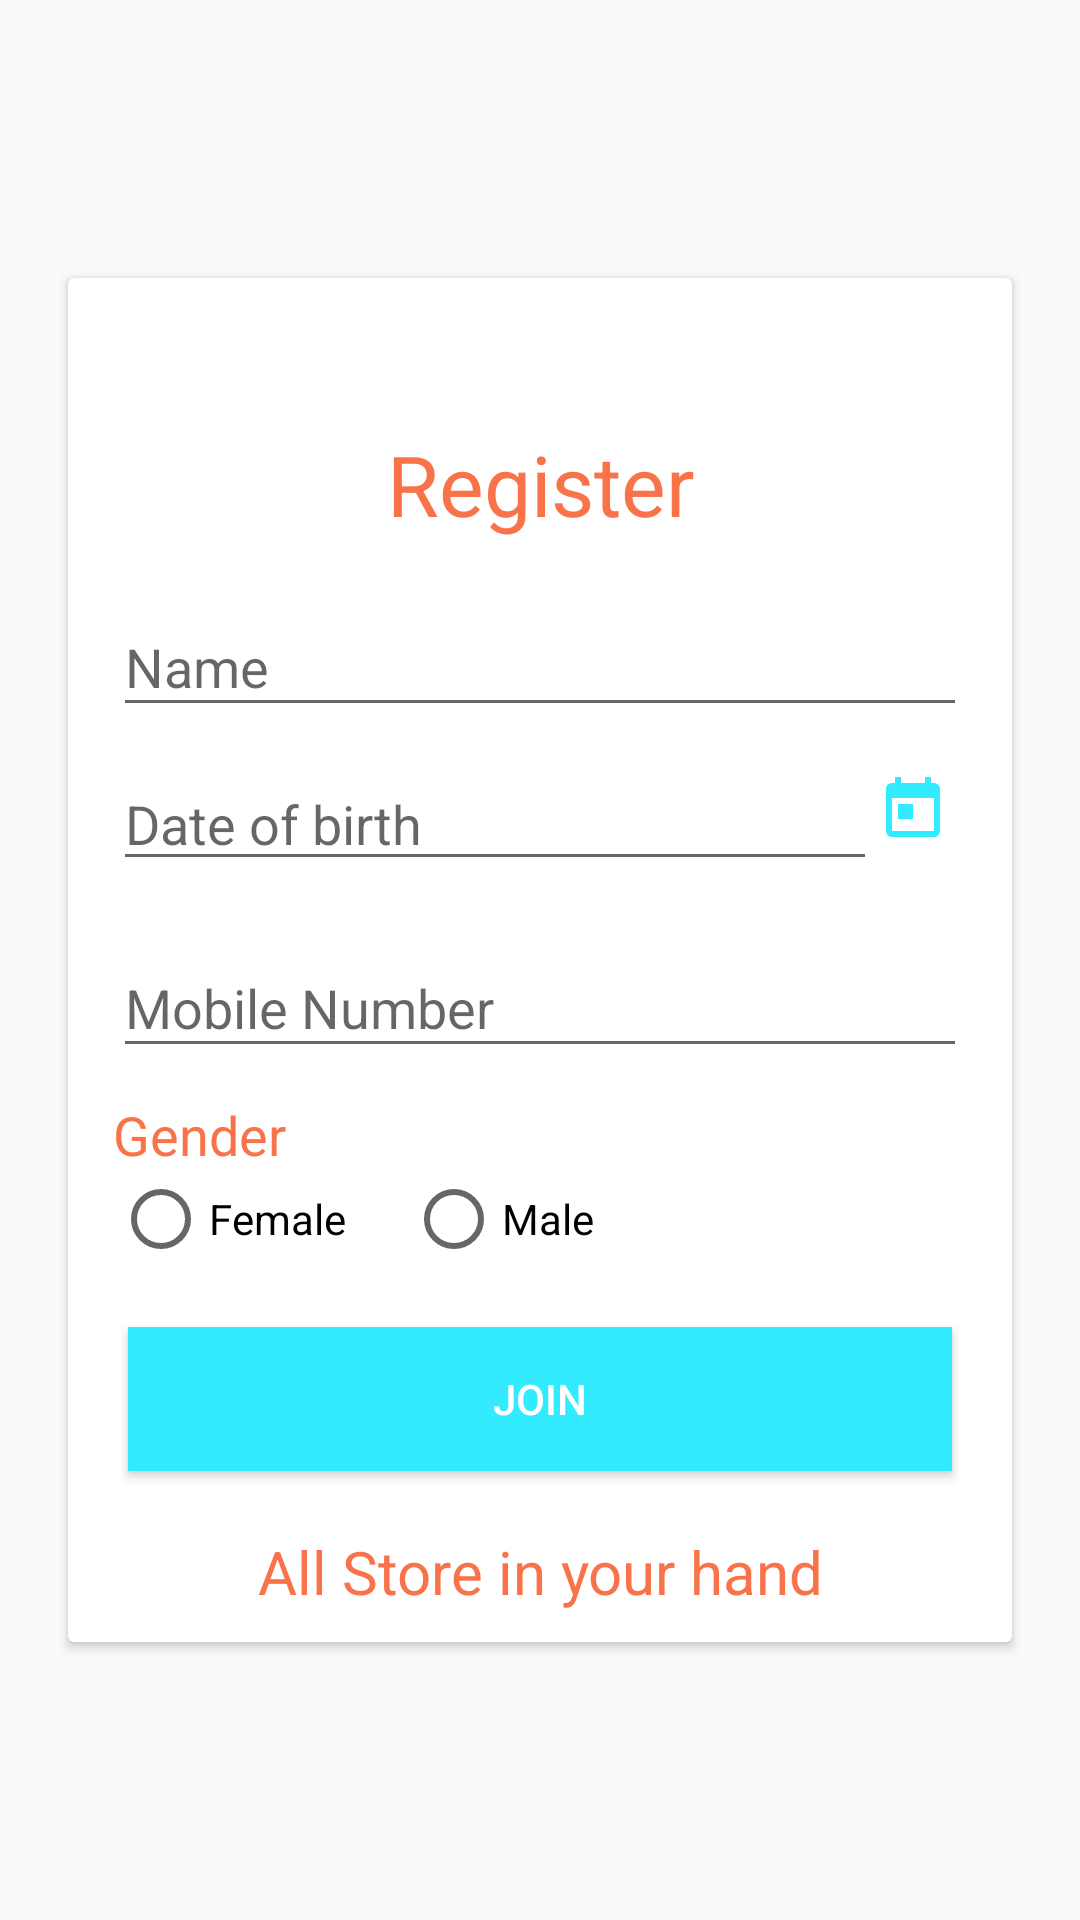

Named icons in this screenshot (1080×1920) and their bounding boxes, bbox(x1, y1, x2, y2):
today: bbox(886, 777, 940, 837)
